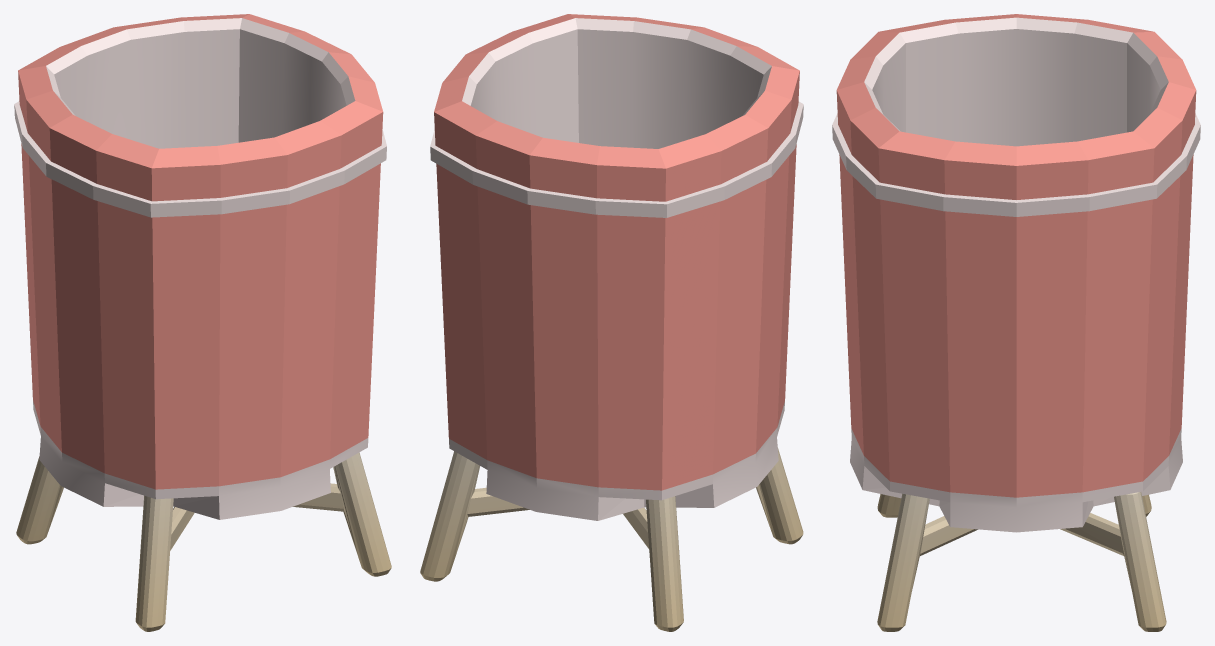
The model's file is PlantPot_13.fbx.
3 views of the same model, side by side, from view 1: azimuth 30°, elevation 25°; view 2: azimuth 150°, elevation 25°; view 3: azimuth 270°, elevation 25° (orthographic). The views are drawn at different scales.
Parts seen in each view (by area): view 1: PlantPot_13; view 2: PlantPot_13; view 3: PlantPot_13.
Part boxes in pixels (bbox=[...]): PlantPot_13: bbox=[14, 14, 391, 631]; PlantPot_13: bbox=[420, 14, 803, 631]; PlantPot_13: bbox=[832, 14, 1200, 631].
Bounding box in the file's own units: 37.14 × 54.18 × 37.14.
